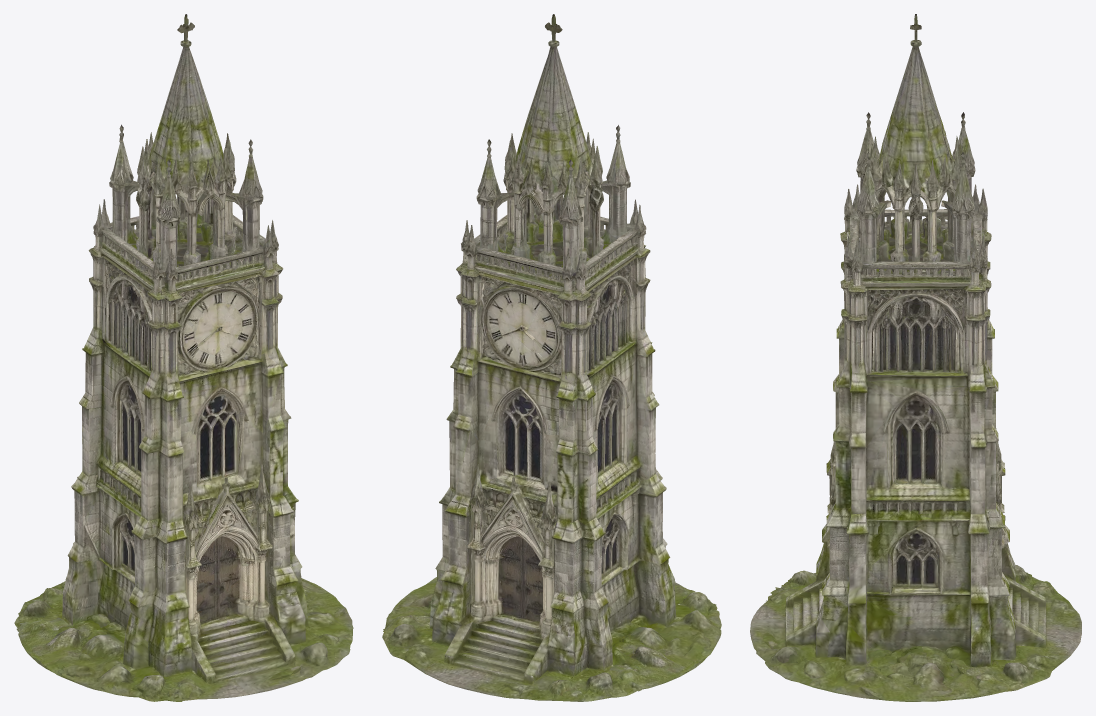
The model's file is clock-tower.glb.
3 views of the same model, side by side, from view 1: azimuth 30°, elevation 25°; view 2: azimuth 150°, elevation 25°; view 3: azimuth 270°, elevation 25° (orthographic).
Parts seen in each view (by area): view 1: Mesh_0; view 2: Mesh_0; view 3: Mesh_0.
Boxes of the visible parts, <box> form: Mesh_0: <box>14,14,353,701</box>; Mesh_0: <box>382,14,721,701</box>; Mesh_0: <box>750,14,1081,701</box>.
Bounding box in the file's own units: 0.9363 × 1.9 × 0.9249.
1 material, 1 textured.
